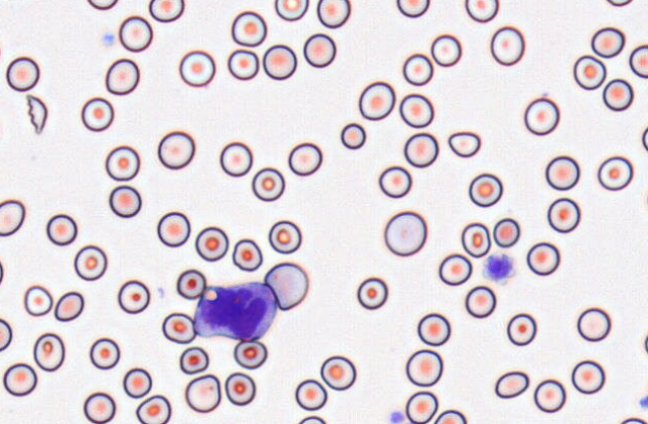MONO: (192, 282, 278, 343)
PLT: (483, 252, 516, 286), (388, 411, 405, 424), (639, 394, 648, 411)
RBC: (383, 210, 427, 256), (405, 348, 443, 387), (157, 130, 195, 169), (184, 373, 221, 413), (358, 81, 395, 120), (490, 25, 525, 66), (523, 97, 560, 135), (178, 49, 215, 87), (231, 10, 267, 46), (597, 155, 633, 191), (320, 355, 356, 390), (5, 56, 40, 92), (576, 306, 611, 342), (262, 44, 297, 80), (105, 145, 140, 181), (118, 15, 152, 52), (105, 58, 139, 95), (73, 244, 107, 281), (33, 332, 65, 371), (403, 132, 438, 167), (545, 155, 580, 190), (156, 211, 190, 247), (80, 96, 114, 132), (194, 226, 228, 261), (571, 359, 605, 394), (2, 362, 37, 396), (399, 93, 433, 128), (468, 172, 502, 207), (526, 241, 560, 276), (573, 54, 606, 90), (547, 197, 580, 233), (219, 141, 252, 177), (288, 142, 322, 176), (251, 167, 285, 201), (533, 378, 566, 413), (117, 279, 150, 314), (417, 312, 450, 346), (268, 220, 301, 254), (303, 33, 336, 67), (161, 312, 196, 344), (590, 26, 625, 58), (405, 390, 438, 423), (294, 378, 327, 411), (378, 165, 411, 198), (108, 185, 141, 218), (438, 253, 472, 285), (356, 276, 388, 310), (460, 222, 491, 257), (464, 285, 496, 318), (224, 372, 255, 406), (135, 394, 171, 423), (83, 391, 115, 423), (89, 337, 120, 370), (402, 53, 433, 86), (602, 78, 633, 111), (430, 33, 461, 66), (233, 339, 267, 369), (506, 312, 536, 346), (46, 213, 77, 245), (227, 49, 259, 80), (232, 238, 262, 271), (494, 370, 529, 398), (23, 284, 53, 316), (316, 0, 350, 28), (0, 198, 25, 236), (122, 367, 152, 398), (176, 269, 206, 299), (54, 291, 84, 321), (447, 131, 481, 157), (179, 346, 209, 374), (492, 217, 520, 247), (148, 0, 184, 22), (464, 0, 499, 22), (274, 0, 309, 21), (340, 122, 365, 149), (629, 44, 648, 78), (396, 0, 429, 18), (433, 409, 466, 423), (0, 317, 12, 352), (86, 0, 118, 10), (297, 415, 326, 423), (641, 123, 648, 153), (618, 417, 647, 424), (642, 185, 648, 214), (605, 0, 634, 6), (0, 256, 4, 285), (644, 330, 648, 357), (0, 112, 3, 147), (0, 33, 3, 67)
Schistocyte: (265, 261, 309, 311), (26, 92, 50, 134)
